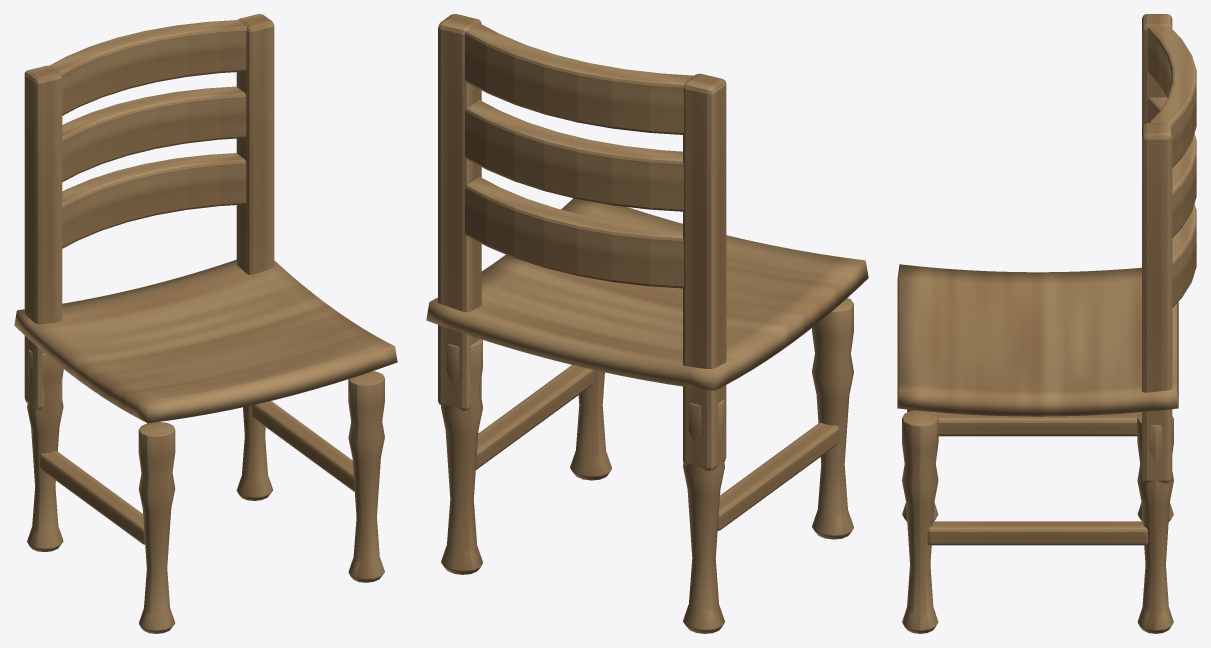
File: chair_large.glb
3 views of the same model, side by side, from view 1: azimuth 30°, elevation 25°; view 2: azimuth 150°, elevation 25°; view 3: azimuth 270°, elevation 25° (orthographic). The views are drawn at different scales.
Visible parts, largest first — view 1: curved_seat.001, back_post.002, back_slat.005, back_slat.004, back_slat.003, back_post.003, turned_leg.016, turned_leg.018, turned_leg.017, stretcher.003, stretcher.004, turned_leg.019; view 2: curved_seat.001, back_post.002, back_slat.005, back_slat.003, back_slat.004, back_post.003, turned_leg.016, turned_leg.019, turned_leg.017, stretcher.003, stretcher.004, turned_leg.018; view 3: curved_seat.001, back_post.003, turned_leg.018, stretcher.004, turned_leg.019, back_slat.005, stretcher.003, back_slat.004, back_slat.003, back_post.002.
Part boxes in pixels (x1=…): curved_seat.001: x1=14, y1=259, x2=397, y2=423; back_post.002: x1=24, y1=65, x2=62, y2=409; back_slat.005: x1=49, y1=20, x2=246, y2=115; back_slat.004: x1=62, y1=86, x2=246, y2=182; back_slat.003: x1=62, y1=153, x2=246, y2=248; back_post.003: x1=236, y1=14, x2=274, y2=274; turned_leg.016: x1=138, y1=422, x2=175, y2=633; turned_leg.018: x1=348, y1=371, x2=384, y2=582; turned_leg.017: x1=27, y1=349, x2=63, y2=552; stretcher.003: x1=40, y1=451, x2=145, y2=544; stretcher.004: x1=252, y1=401, x2=354, y2=491; turned_leg.019: x1=236, y1=405, x2=272, y2=500; curved_seat.001: x1=426, y1=198, x2=868, y2=390; back_post.002: x1=683, y1=73, x2=726, y2=470; back_slat.005: x1=465, y1=23, x2=693, y2=134; back_slat.003: x1=465, y1=177, x2=683, y2=288; back_slat.004: x1=465, y1=100, x2=683, y2=211; back_post.003: x1=438, y1=14, x2=481, y2=410; turned_leg.016: x1=812, y1=298, x2=853, y2=539; turned_leg.019: x1=441, y1=339, x2=482, y2=574; turned_leg.017: x1=683, y1=400, x2=724, y2=633; stretcher.003: x1=717, y1=422, x2=838, y2=530; stretcher.004: x1=476, y1=365, x2=594, y2=469; turned_leg.018: x1=570, y1=370, x2=611, y2=480; curved_seat.001: x1=897, y1=264, x2=1178, y2=416; back_post.003: x1=1142, y1=123, x2=1172, y2=483; turned_leg.018: x1=902, y1=410, x2=938, y2=633; stretcher.004: x1=927, y1=521, x2=1148, y2=545; turned_leg.019: x1=1137, y1=413, x2=1173, y2=633; back_slat.005: x1=1147, y1=26, x2=1196, y2=167; stretcher.003: x1=933, y1=412, x2=1141, y2=436; back_slat.004: x1=1147, y1=97, x2=1196, y2=237; back_slat.003: x1=1172, y1=204, x2=1196, y2=307; back_post.002: x1=1142, y1=14, x2=1172, y2=126.
Size of the model in its own units: 0.6586 by 1.2 by 0.6484.
Materials: 2 (2 with a texture image).
